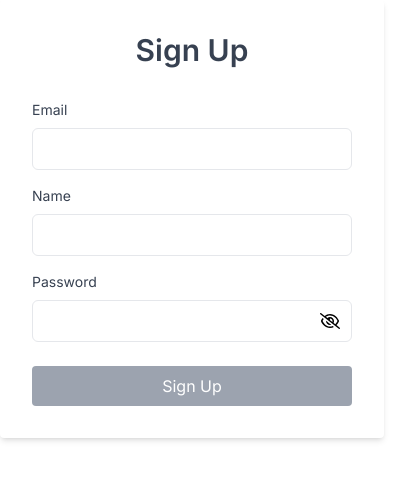
Scenario: Signupコンポーネント › メールアドレスが不正な形式の場合、エラーメッセージが表示され、Signupボタンを押せないこと
This screenshot has width=402, height=479.
In the field labelled "Email": (192, 149) left=32, top=128, right=352, bottom=170, type "test"
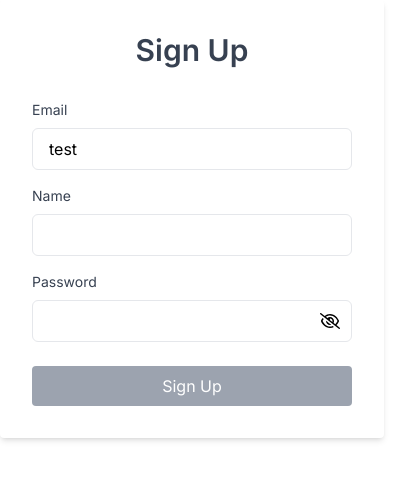
In the field labelled "Name": (192, 235) left=32, top=214, right=352, bottom=256, type "testUser"
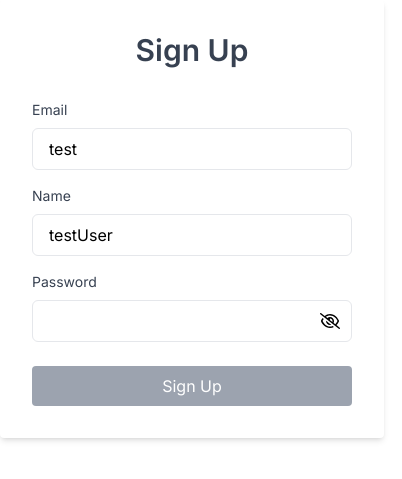
In the password field labelled "Password": (192, 321) left=32, top=300, right=352, bottom=342, type "password123"
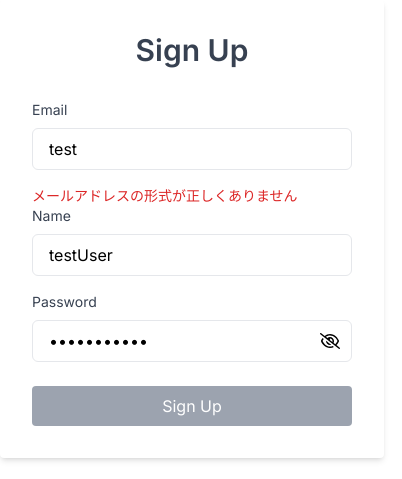
expect the button "Sign Up" is disabled: met, box left=32, top=386, right=352, bottom=426
expect the text "メールアドレスの形式が正しくありません" is shown: met, box left=32, top=187, right=298, bottom=204
